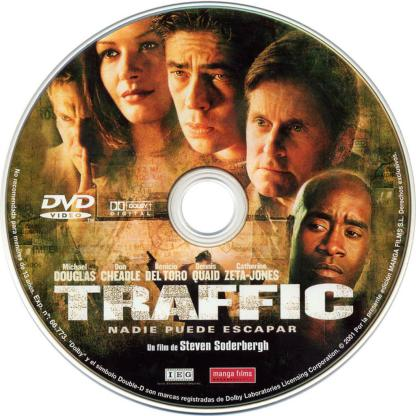face: (250, 84, 336, 198), (167, 33, 246, 153), (293, 188, 368, 297), (98, 16, 170, 123), (52, 81, 113, 179)
